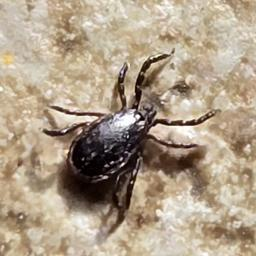Ixodes scapularis: (44, 53, 218, 210)
